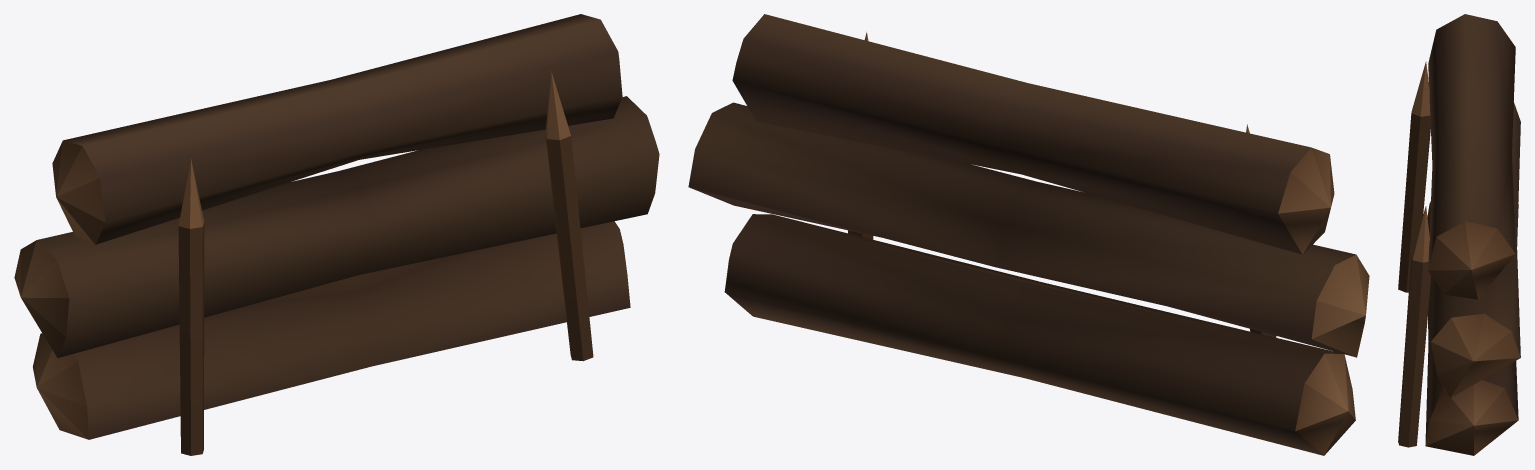
File: goblin_wall_v1.fbx
3 views of the same model, side by side, from view 1: azimuth 30°, elevation 25°; view 2: azimuth 150°, elevation 25°; view 3: azimuth 270°, elevation 25° (orthographic). The views are drawn at different scales.
Visible parts, largest first — view 1: gobb_wall; view 2: gobb_wall; view 3: gobb_wall.
Part boxes in pixels (x1,y1,x2,y2): gobb_wall: (14,14,659,455); gobb_wall: (688,14,1369,455); gobb_wall: (1398,14,1520,455).
Size of the model in its own units: 4.73 by 0.9669 by 2.13.
